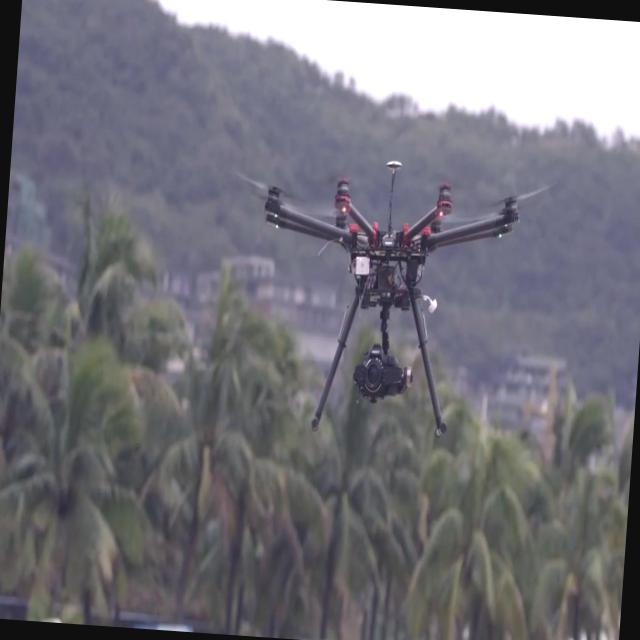drone: (228, 144, 528, 448)
